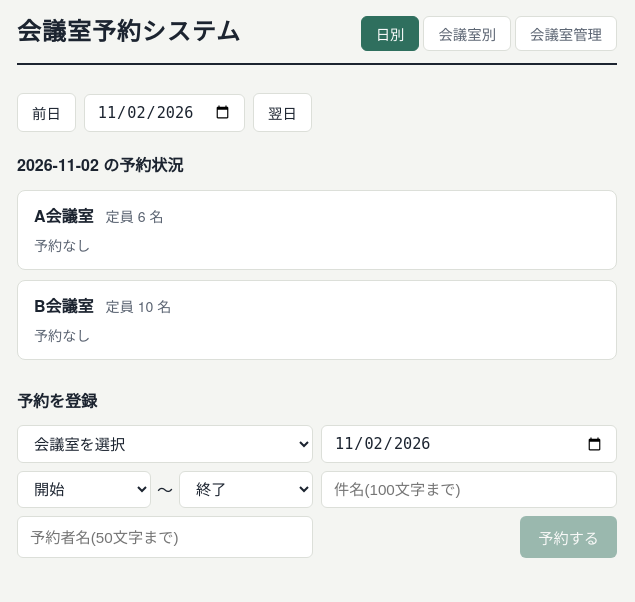
Scenario: 日別予約状況 › 別の日付で登録すると、登録した日の一覧に切り替わる
The width and height of the screenshot is (635, 602).
In the date field named "予約日": point(469, 444) [321,425,617,463], type "2026-11-05"
Select "B会議室(定員 10 名)" in the dropdown named "会議室": point(165, 444) [17,425,313,463]
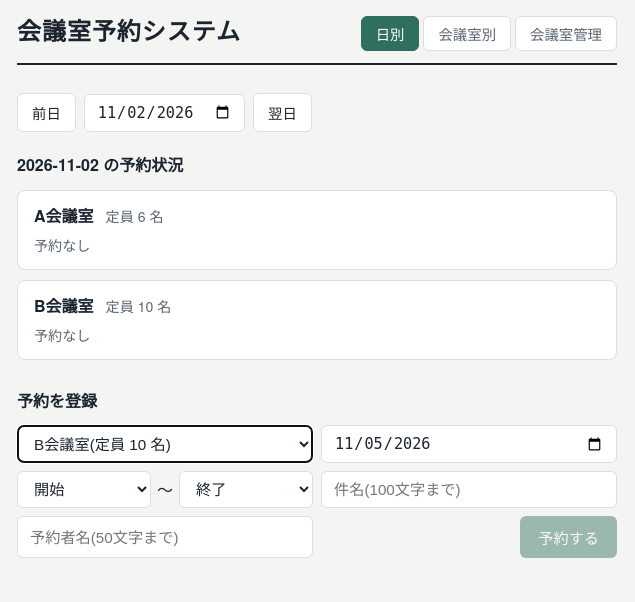
Select "09:00" in the dropdown named "開始時刻": point(84, 490) [17,471,151,508]
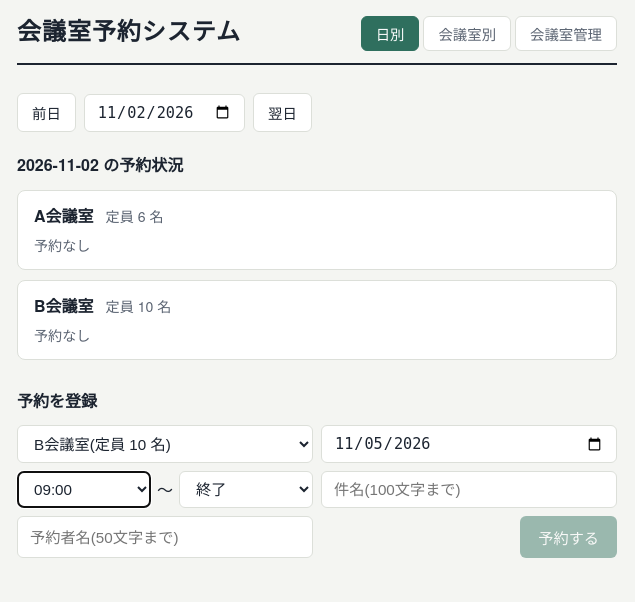
Select "09:30" in the dropdown named "終了時刻": point(246, 490) [179,471,313,508]
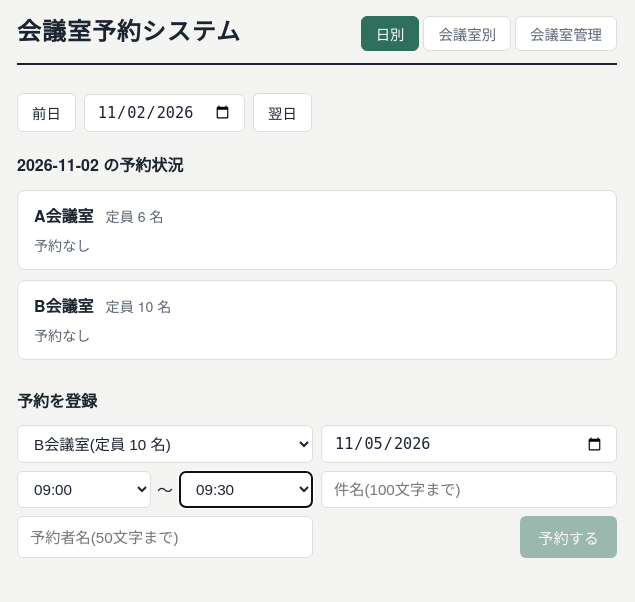
In the field labelled "件名": point(469, 490) [321,471,617,508], type "朝会"
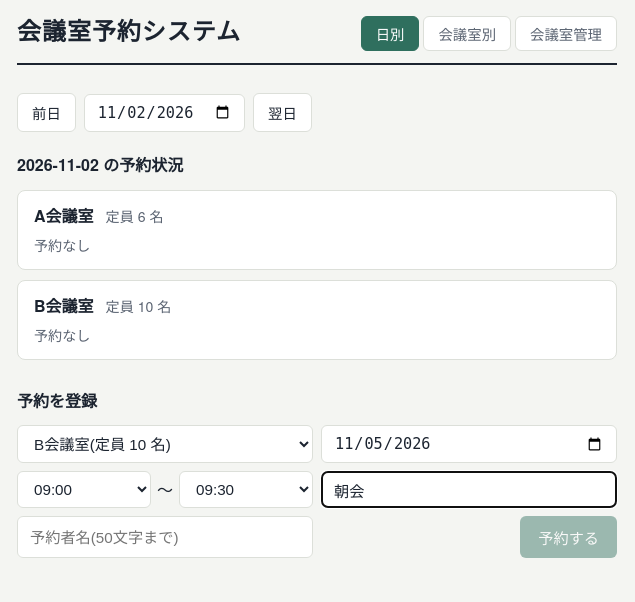
In the field labelled "予約者名": point(165, 537) [17,516,313,558], type "鈴木"
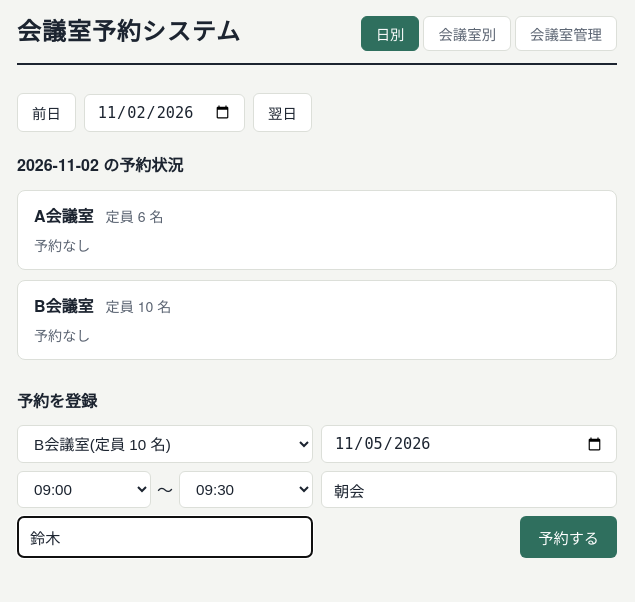
Click the button "予約する": point(569, 537) [520,516,617,558]
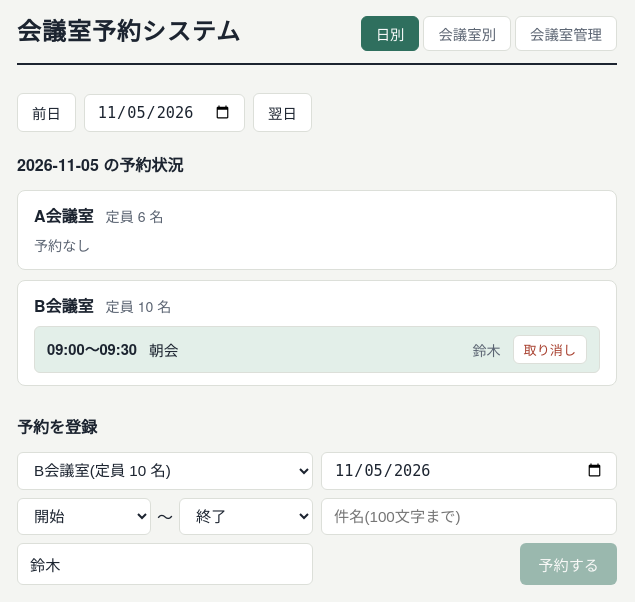
Now the date field named "表示する日付" holds "2026-11-05", box [84,94,245,132]
